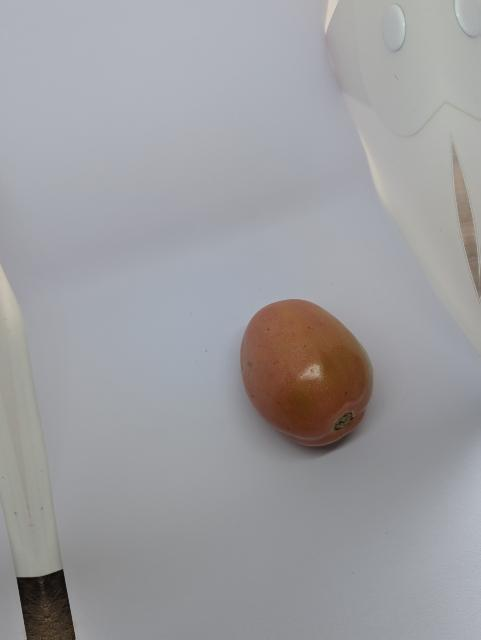turning: (231, 285, 390, 466)
